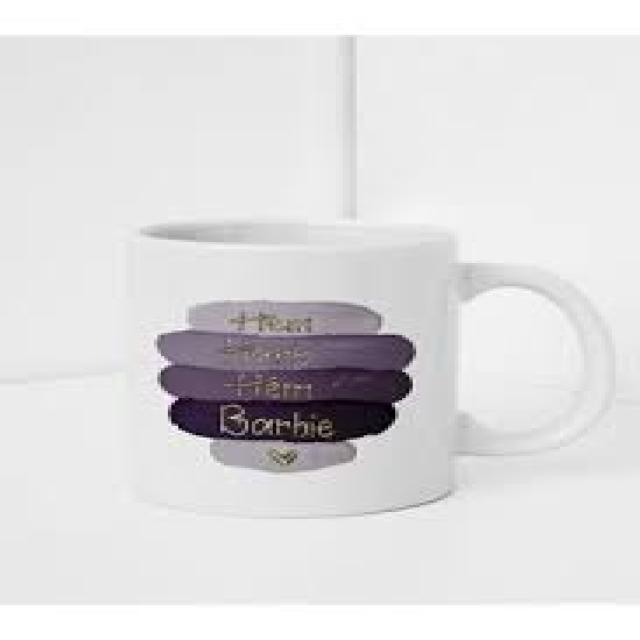taza: (127, 215, 618, 520)
